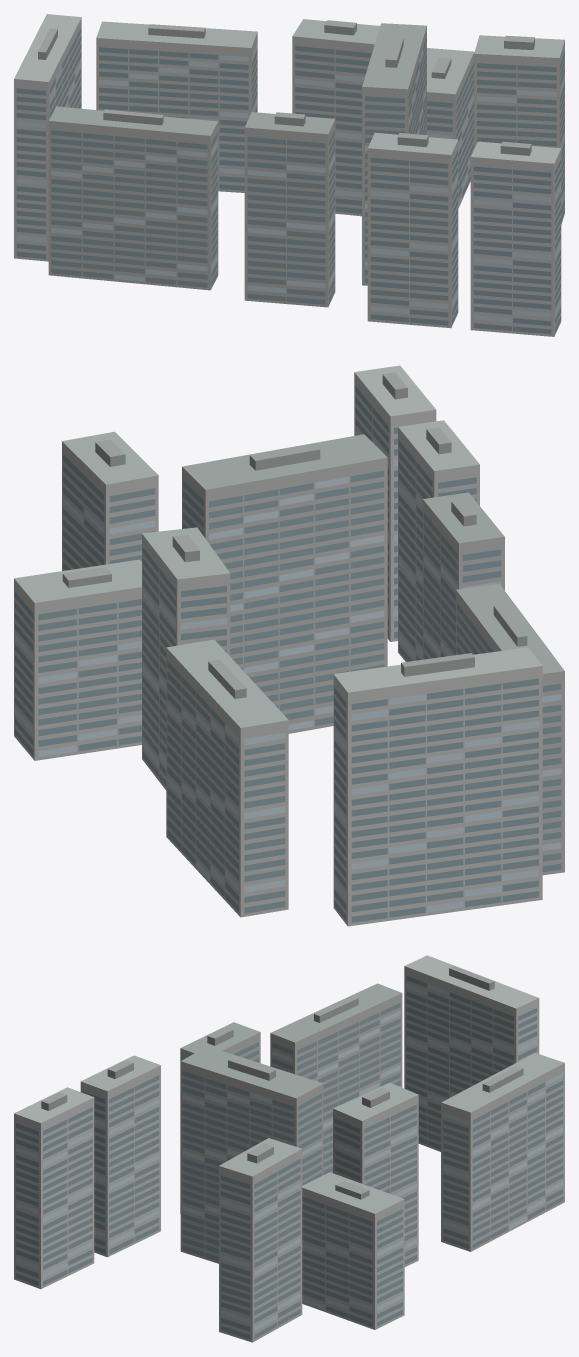
Rendered from apt-a12188205.glb.
3 renders of one model, top to bottom at view 1: azimuth 30°, elevation 25°; view 2: azimuth 150°, elevation 25°; view 3: azimuth 270°, elevation 25°, orthographic. The views are drawn at different scales.
Parts seen in each view (by area): view 1: apt-a12188205; view 2: apt-a12188205; view 3: apt-a12188205.
Boxes of the visible parts, x1,y1,x2,y2 form: apt-a12188205: (14,14,564,336); apt-a12188205: (14,365,564,926); apt-a12188205: (14,955,564,1342).
Size of the model in its own units: 152 by 65 by 164.
